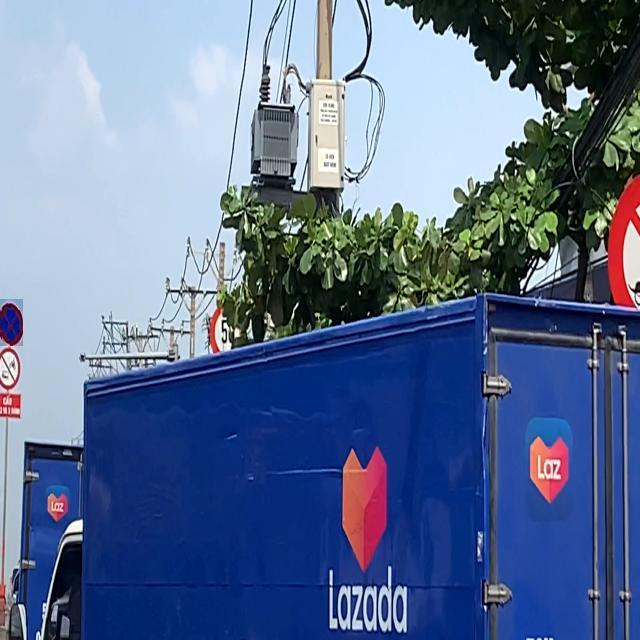P-130: (0, 299, 23, 346)
